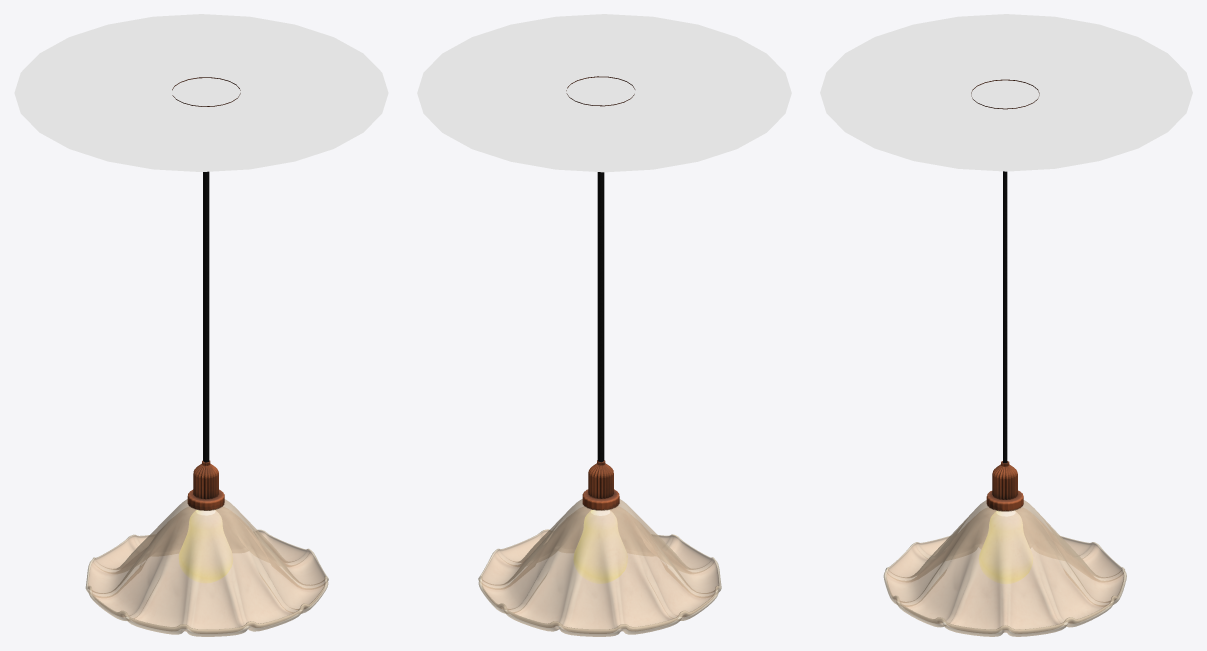
Rendered from ceiling_lamp_flower_style.glb.
3 renders of one model, left to right at view 1: azimuth 30°, elevation 25°; view 2: azimuth 150°, elevation 25°; view 3: azimuth 270°, elevation 25°, orthographic.
Parts seen in each view (by area): view 1: Object_2, Object_3, Object_4; view 2: Object_2, Object_3, Object_4; view 3: Object_2, Object_3, Object_4.
Part boxes in pixels (bbox=[...]): Object_2: bbox=[14, 14, 388, 171]; Object_3: bbox=[85, 77, 328, 636]; Object_4: bbox=[179, 510, 232, 582]; Object_2: bbox=[417, 14, 791, 172]; Object_3: bbox=[478, 76, 721, 636]; Object_4: bbox=[573, 510, 627, 583]; Object_2: bbox=[820, 14, 1192, 171]; Object_3: bbox=[883, 79, 1126, 636]; Object_4: bbox=[979, 510, 1032, 583].
Size of the model in its own units: 80.54 by 119 by 80.54.
3 materials, 1 textured.
